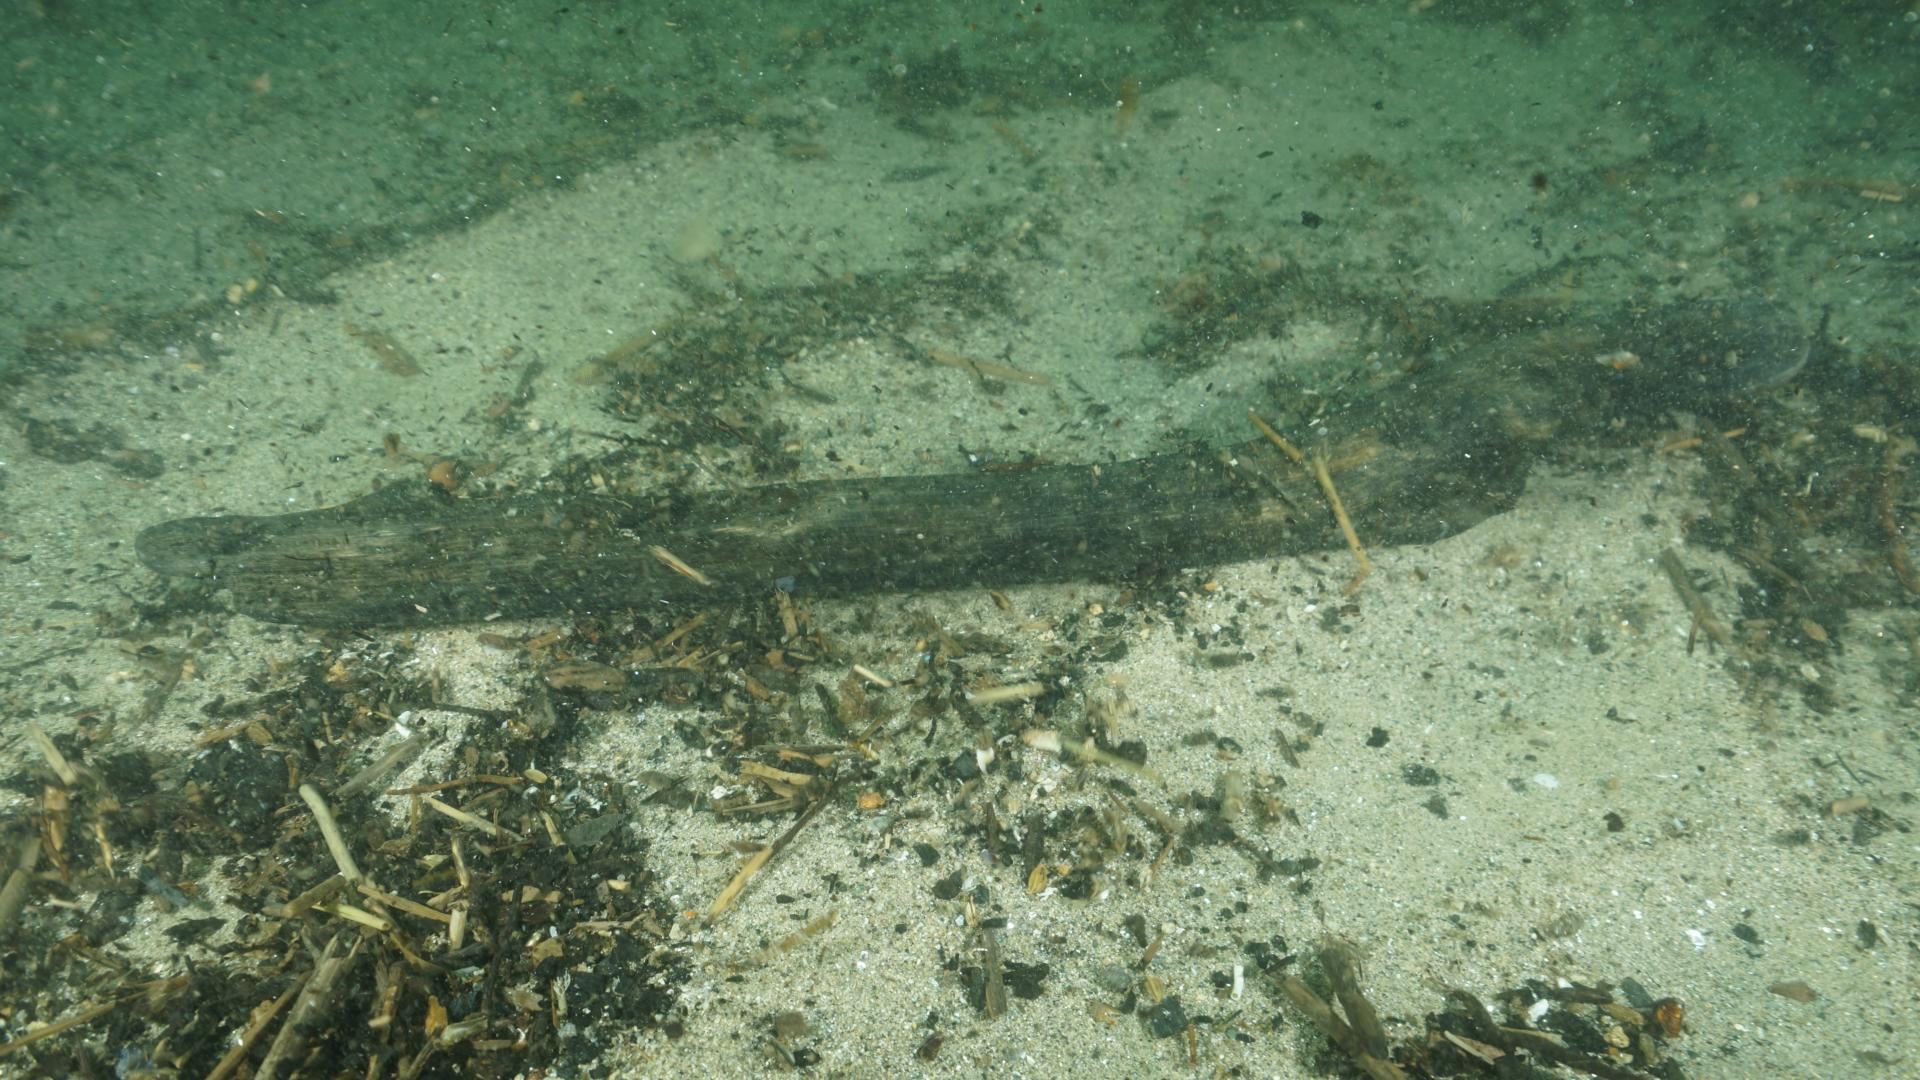wood: (131, 324, 1601, 629)
